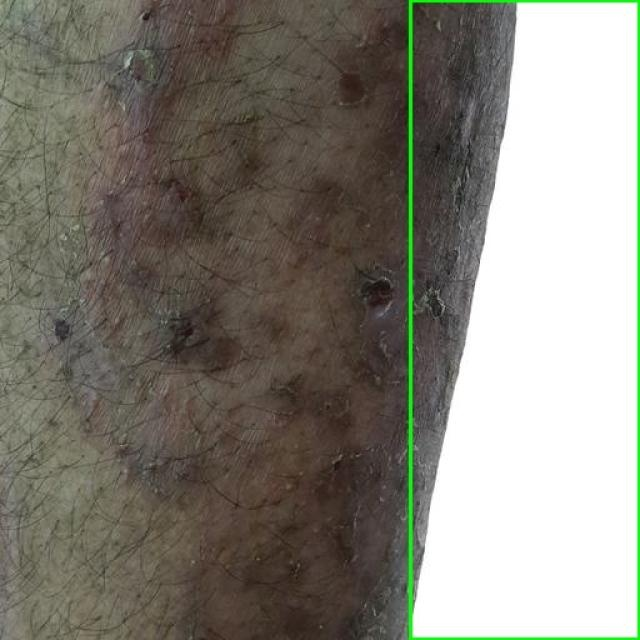Tinea Corporis: (410, 0, 639, 639)
